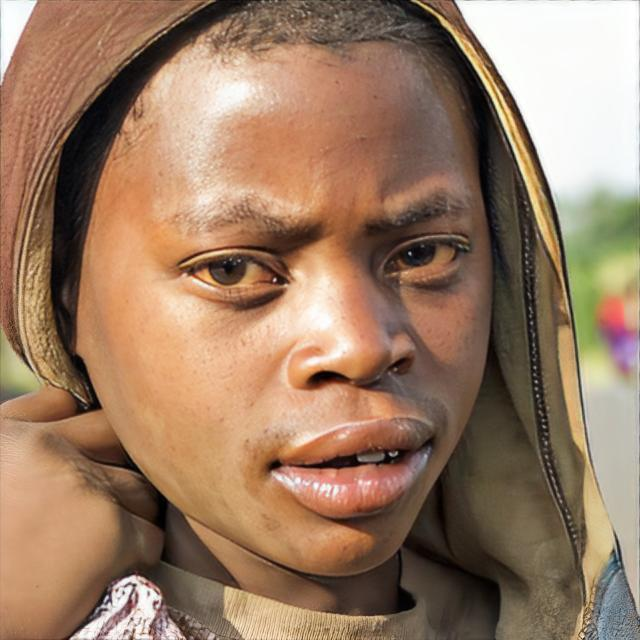disgust: (78, 0, 494, 579)
